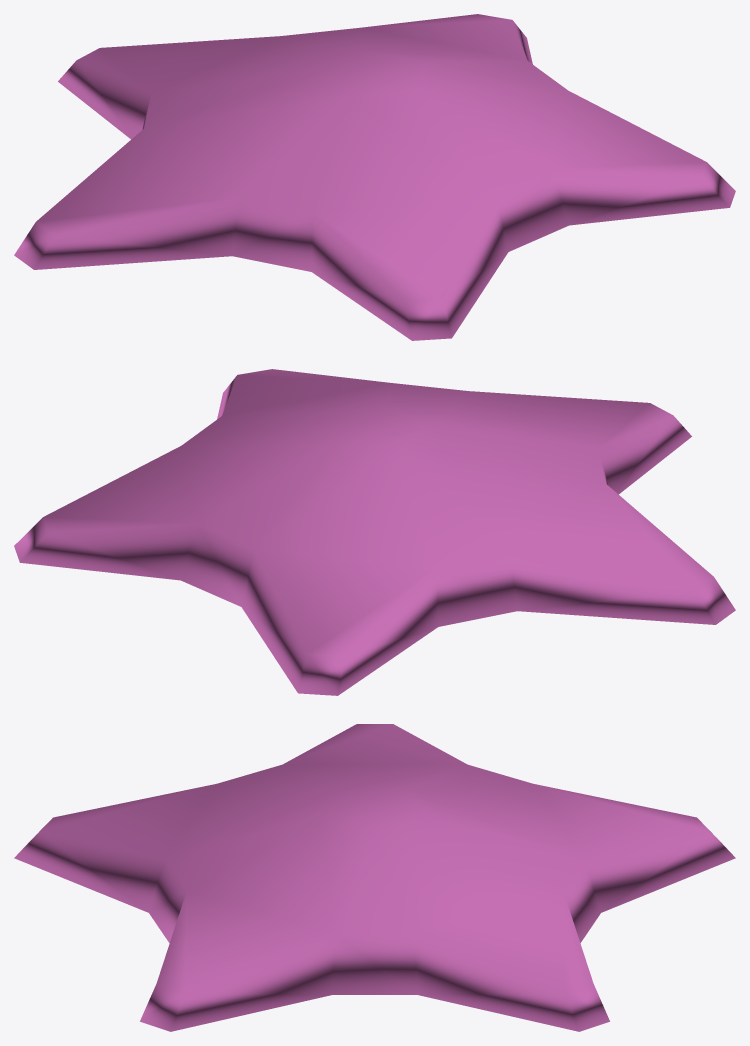
The model's file is cre_starfish01.fbx.
3 views of the same model, one above another, from view 1: azimuth 30°, elevation 25°; view 2: azimuth 150°, elevation 25°; view 3: azimuth 270°, elevation 25° (orthographic). The views are drawn at different scales.
Parts seen in each view (by area): view 1: cre_starfish01; view 2: cre_starfish01; view 3: cre_starfish01.
Part boxes in pixels (<box>): cre_starfish01: <box>14,14,735,340</box>; cre_starfish01: <box>14,369,735,695</box>; cre_starfish01: <box>14,724,735,1031</box>.
Size of the model in its own units: 19.15 by 3.1 by 20.17.
